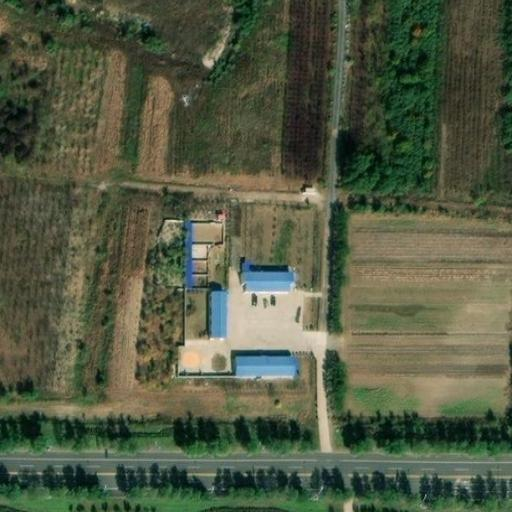building: (237, 355, 295, 375), (242, 272, 294, 290), (209, 290, 226, 339), (184, 221, 192, 288), (242, 262, 249, 272)
